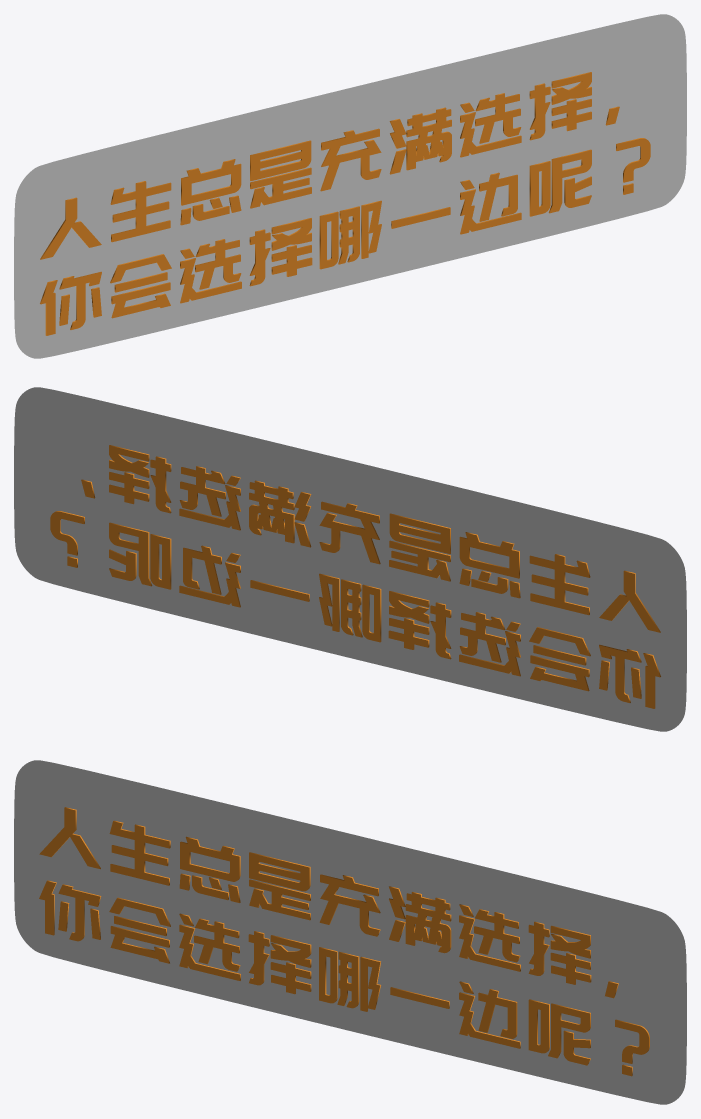
File: 选择提示牌.fbx
3 views of the same model, one above another, from view 1: azimuth 30°, elevation 25°; view 2: azimuth 150°, elevation 25°; view 3: azimuth 330°, elevation 25° (orthographic).
Visible parts, largest first — view 1: 文本; view 2: 文本; view 3: 文本.
Part boxes in pixels (box(x1,y1,x2,y2)): 文本: box(14, 14, 686, 358); 文本: box(14, 387, 686, 731); 文本: box(14, 760, 686, 1104).
Bounding box in the file's own units: 200 × 56.01 × 0.8815.
